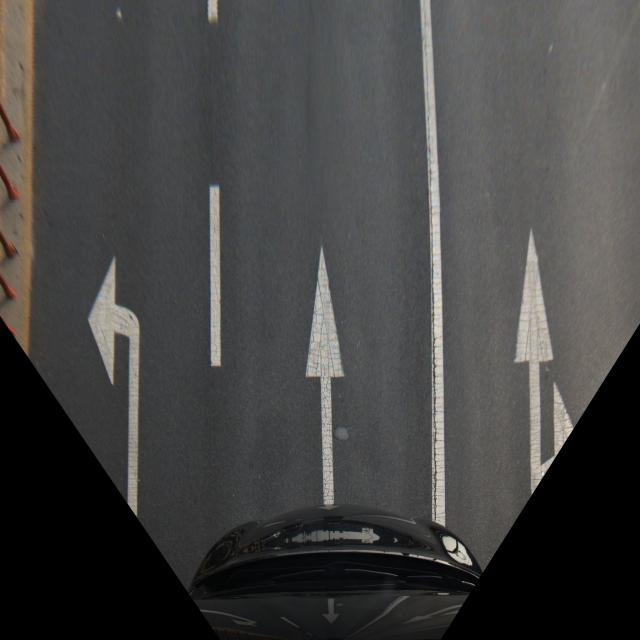forward: (210, 242, 444, 506)
forward_right: (430, 211, 640, 520)
left: (12, 223, 234, 538)
